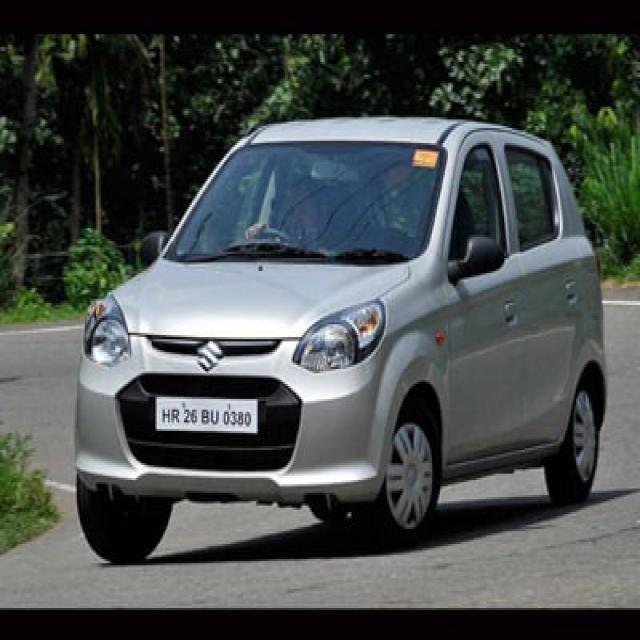car: (73, 114, 608, 564)
license: (153, 396, 259, 433)
